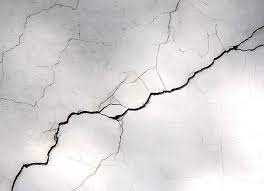crack: (11, 25, 263, 188), (0, 23, 78, 107), (0, 0, 76, 63), (127, 0, 177, 88)
